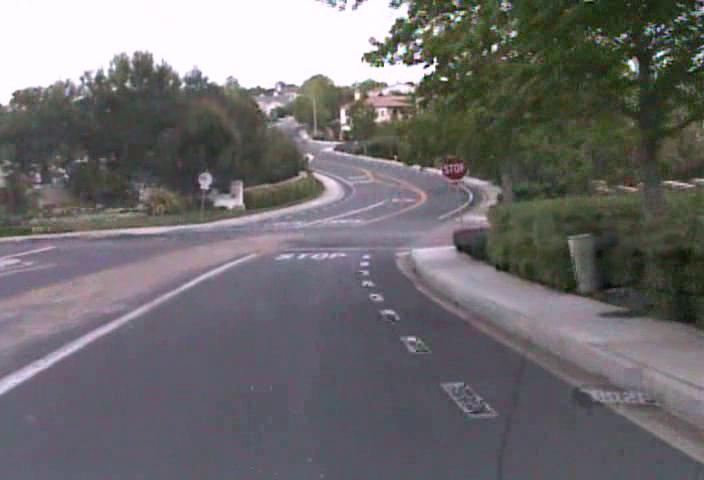stop: (440, 155, 468, 181)
